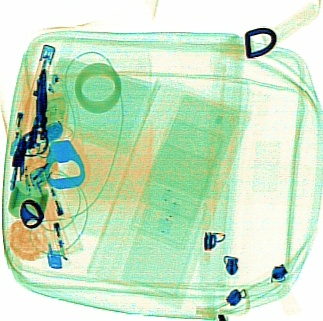lighter: (27, 160, 82, 255), (30, 184, 70, 269), (22, 43, 55, 126), (3, 73, 35, 153)
